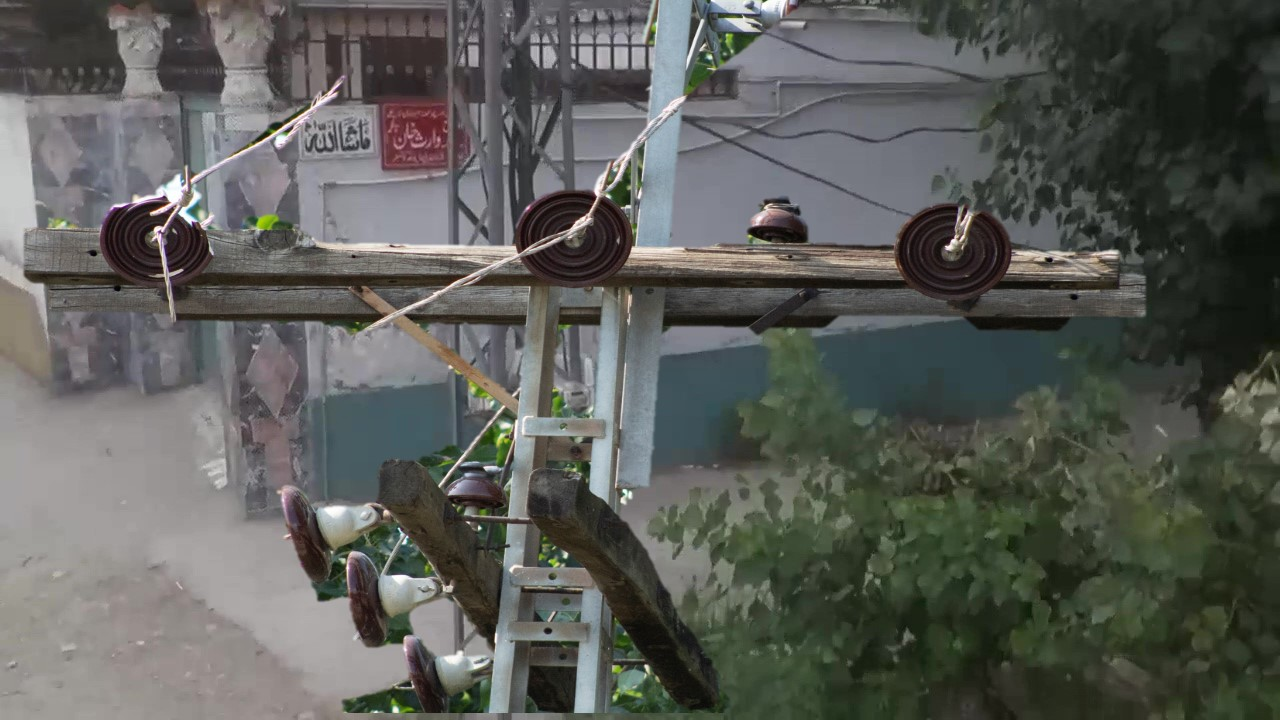defect_disc: (96, 183, 219, 300)
insulator_disc: (894, 194, 1016, 304), (512, 183, 639, 287), (277, 472, 340, 601), (391, 639, 481, 717), (345, 556, 401, 655)
insulator_pin: (444, 454, 514, 518), (745, 189, 816, 249)
